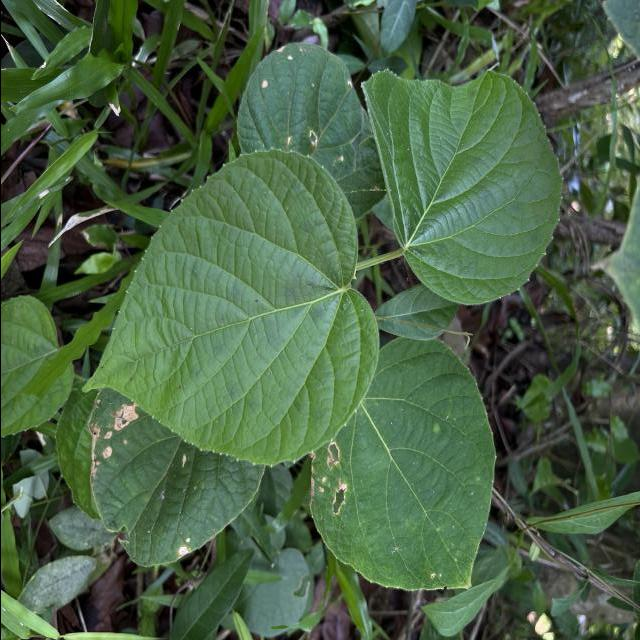Clerodendrum infortunatum: (75, 144, 383, 469), (304, 334, 500, 593), (358, 67, 566, 307)
